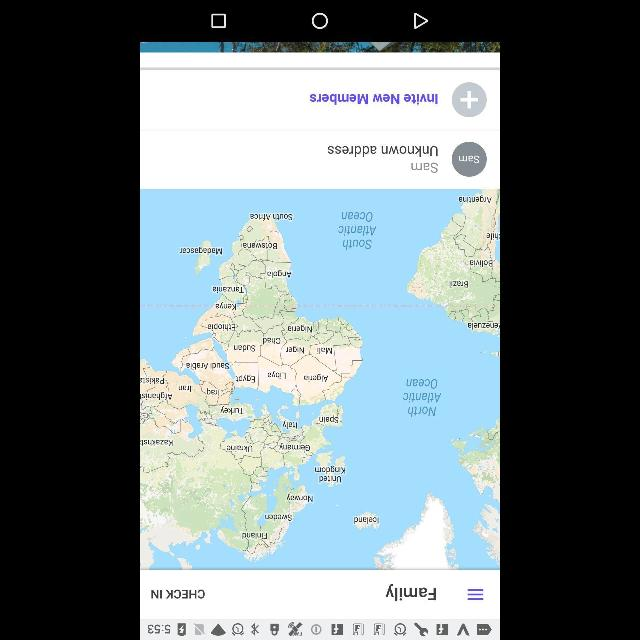icon: (452, 83, 486, 117), (311, 12, 329, 30), (466, 586, 486, 602), (413, 12, 429, 30), (211, 12, 227, 30)
map: (140, 188, 500, 570)
panel: (140, 570, 500, 618), (141, 1, 499, 42)
text: (327, 143, 438, 171), (452, 142, 486, 176), (385, 584, 437, 600)
textbutton: (308, 92, 440, 104), (150, 587, 206, 599)
uppertaskbar: (140, 619, 500, 637)
